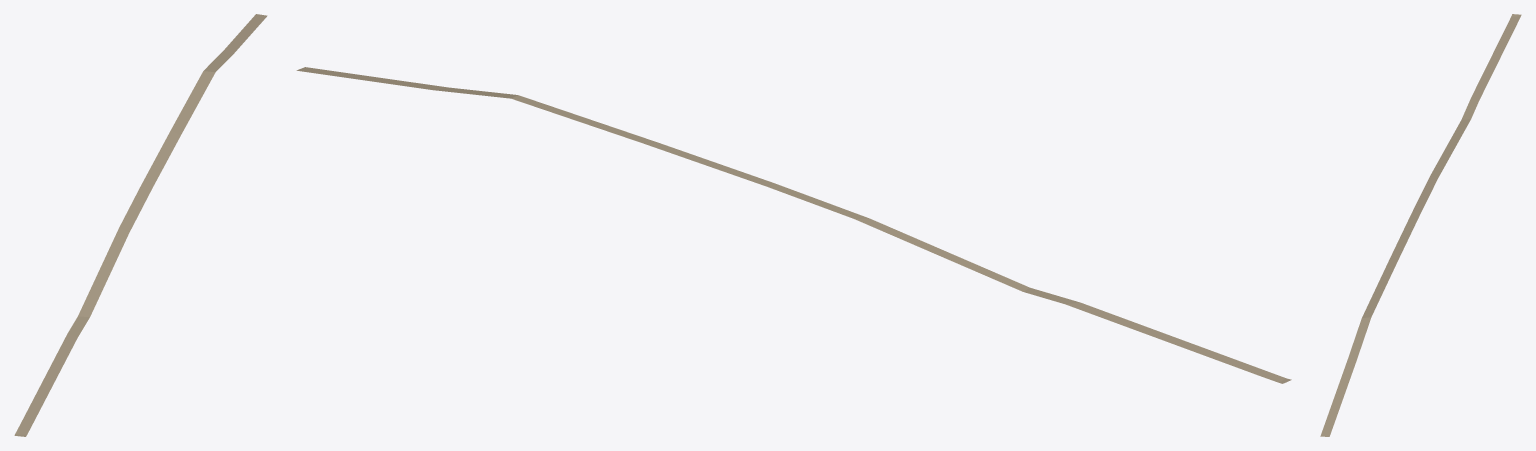
Rendered from farm_-1_15_track.glb.
3 renders of one model, left to right at view 1: azimuth 90°, elevation 25°; view 2: azimuth 150°, elevation 25°; view 3: azimuth 270°, elevation 25°, orthographic. The views are drawn at different scales.
Parts seen in each view (by area): view 1: geometry_0; view 2: geometry_0; view 3: geometry_0.
Boxes of the visible parts, x1,y1,x2,y2 form: geometry_0: [14, 14, 267, 436]; geometry_0: [296, 67, 1291, 383]; geometry_0: [1320, 14, 1521, 436].
Size of the model in its own units: 309 by 17.15 by 69.33.
